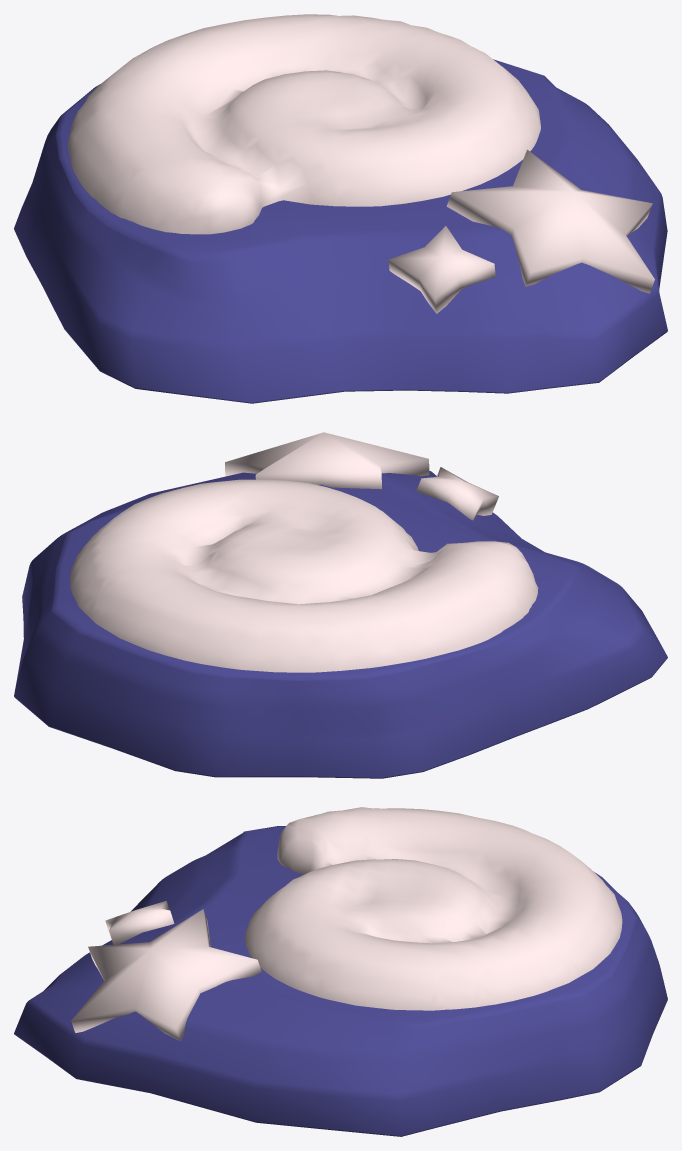
The model's file is acfossil.glb.
3 views of the same model, one above another, from view 1: azimuth 30°, elevation 25°; view 2: azimuth 150°, elevation 25°; view 3: azimuth 270°, elevation 25° (orthographic). The views are drawn at different scales.
Visible parts, largest first — view 1: Circle; view 2: Circle; view 3: Circle.
Boxes of the visible parts, x1,y1,x2,y2 form: Circle: (14, 14, 667, 403); Circle: (14, 432, 667, 778); Circle: (14, 807, 667, 1136).
Size of the model in its own units: 3.12 by 0.6958 by 3.33.
Materials: 2 (2 with a texture image).
